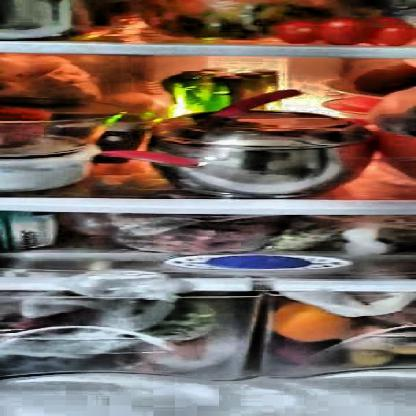mineral_water: (174, 68, 248, 107)
orange: (276, 302, 358, 340)
tomato: (283, 16, 414, 45)
